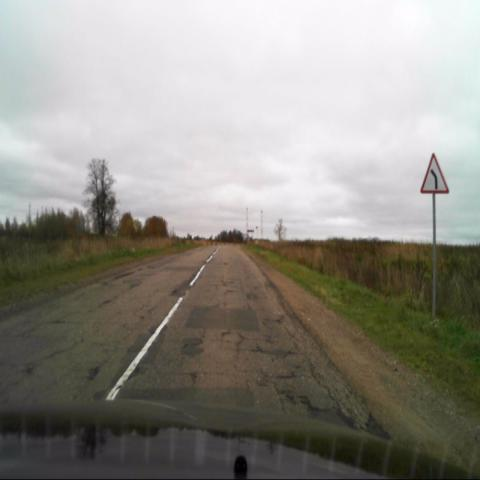1_11_1: (420, 152, 449, 195)
